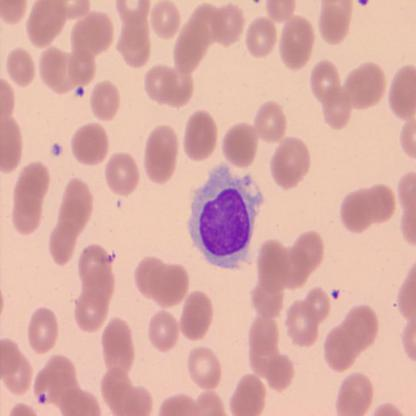Atypical lymphocyte: (190, 164, 263, 267)
